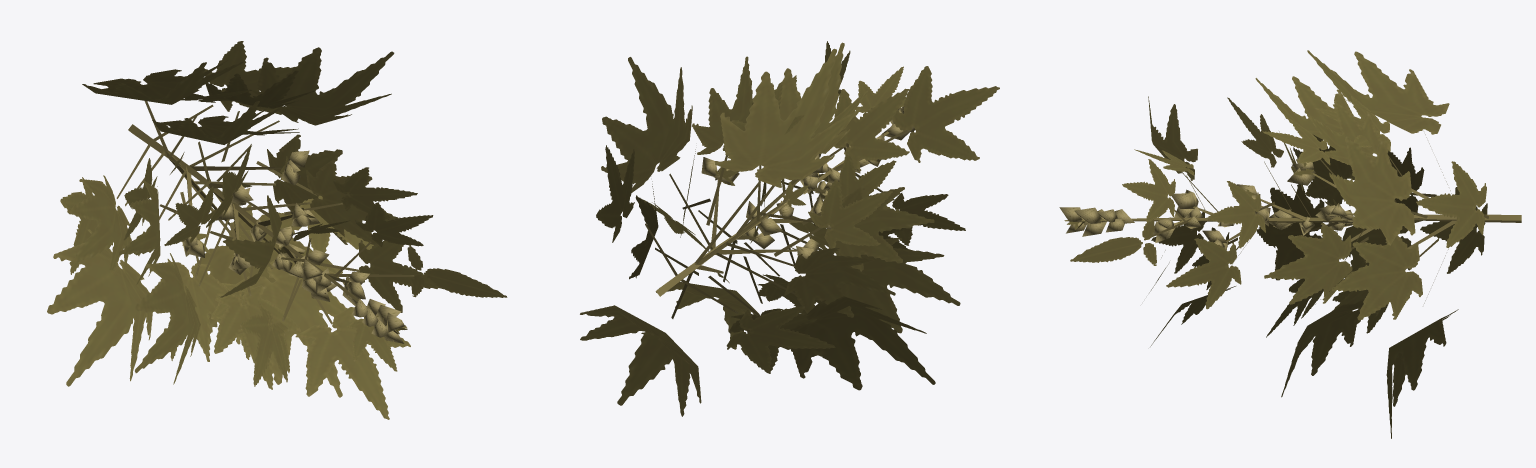
The model's file is p_male_tree_flowering_c2_cards.obj.
3 views of the same model, side by side, from view 1: azimuth 30°, elevation 25°; view 2: azimuth 150°, elevation 25°; view 3: azimuth 270°, elevation 25° (orthographic). The views are drawn at different scales.
Bounding box in the file's own units: 1.37 × 1.32 × 1.55.
Materials: 1 (1 with a texture image).
